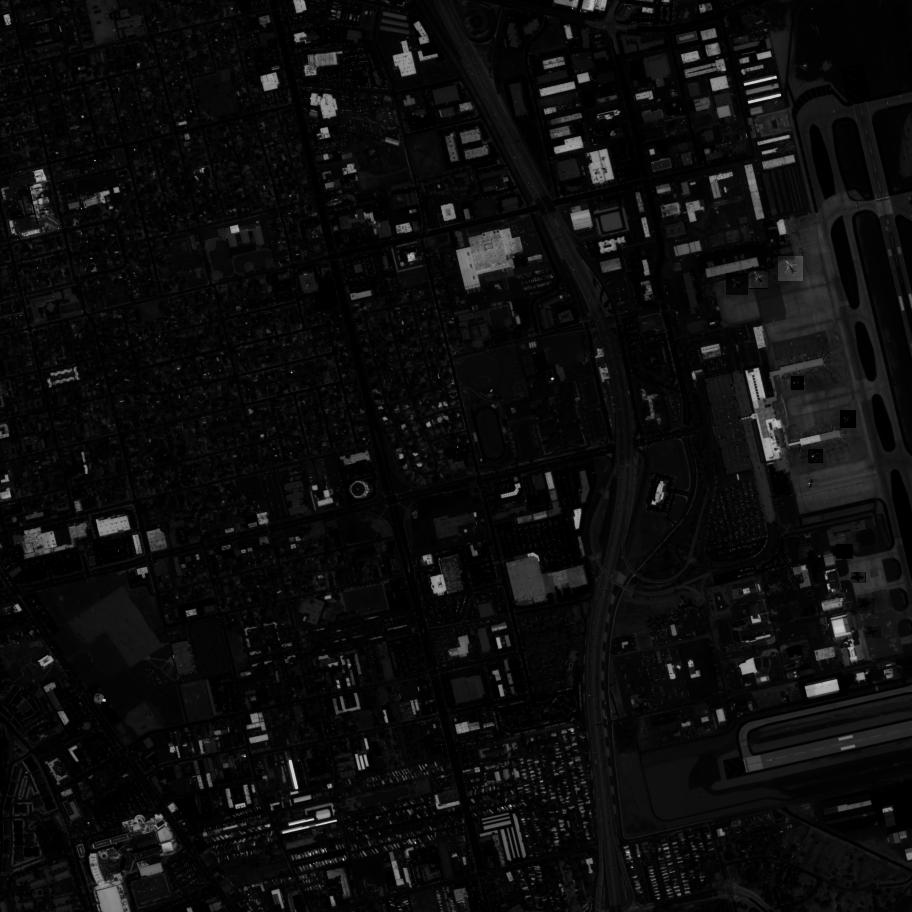plane: (778, 256, 804, 282), (727, 274, 748, 296), (748, 269, 768, 290), (840, 411, 858, 428), (863, 626, 882, 641), (857, 599, 875, 614), (837, 544, 854, 559), (809, 449, 823, 464), (791, 377, 804, 391), (852, 573, 865, 583), (807, 479, 818, 489)
